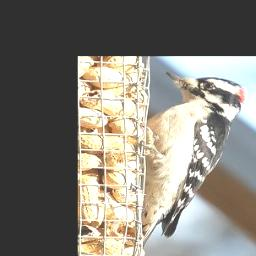Woodpecker: (135, 72, 248, 245)
